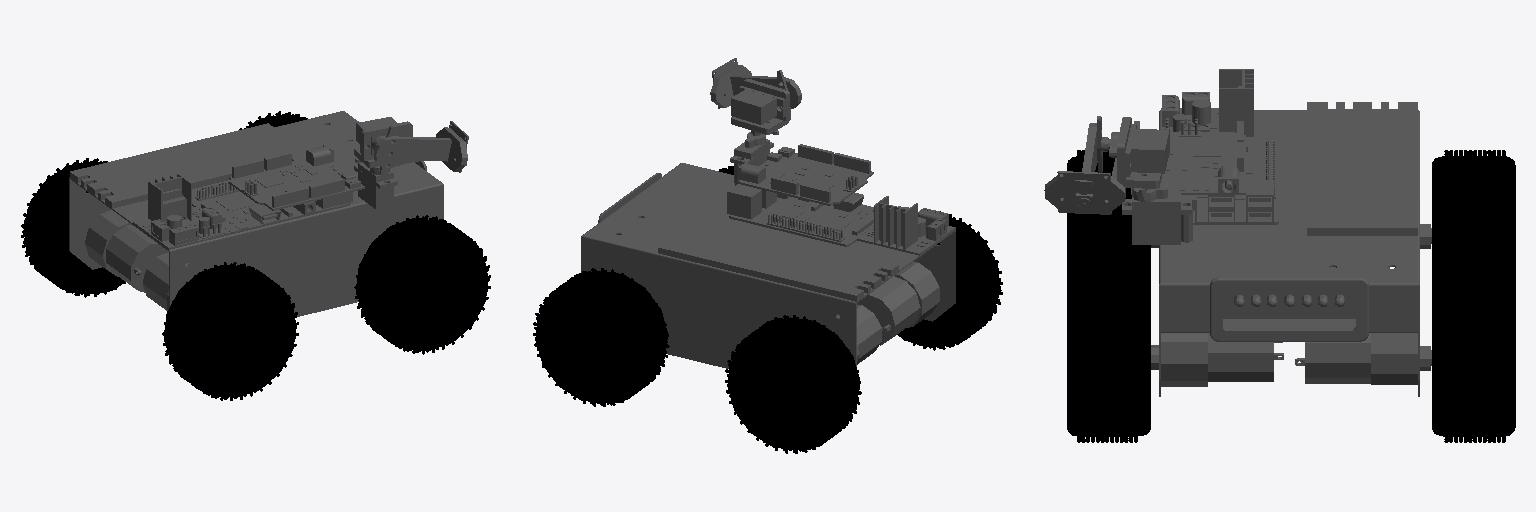
The robot description file, URDF, robot "sam_bot":
<?xml version="1.0"?>
<robot name="sam_bot" xmlns:xacro="http://ros.org/wiki/xacro">



  <link name="base_link">
    <visual>
    <geometry>
    <mesh filename="package://axioma_urdf/meshes/visual/chasiss.stl" scale="1 1 1" />
    </geometry>
  <origin rpy="0 0 0" xyz="0 0 0"/>
  <material name="grey">
    <color rgba="0.4 0.4 0.4 1.0" />
  </material>
    </visual>
  <collision>
  <geometry>
    <mesh filename="package://axioma_urdf/meshes/collision/chasiss.dae" scale="1 1 1" />
  </geometry>
  <origin rpy="0 0 0" xyz="0 0 0"/>
  </collision>
  <inertial>
  <mass value="100"/>
  <inertia ixx="1.0" ixy="0.0" ixz="0.0" iyy="1.0" iyz="0.0" izz="1.0"/>
  </inertial>
    </link>

    <link name="wheel_1">
    <visual>
    <geometry>
    <mesh filename="package://axioma_urdf/meshes/visual/wheel.stl" scale="1 1 1" />
    </geometry>
  <origin rpy="0 0 0" xyz="0 0 0"/>
    <material name="black">
  <color rgba="0 0 0 1"/>
  </material>
  </visual>
  <collision>
  <geometry>
    <mesh filename="package://axioma_urdf/meshes/collision/wheel.dae" scale="1 1 1" />
  </geometry>
  <origin rpy="0 0 0" xyz="0 0 0"/>
  </collision>
  <inertial>
  <mass value="10"/>
  <inertia ixx="1.0" ixy="0.0" ixz="0.0" iyy="1.0" iyz="0.0" izz="1.0"/>
  </inertial>
    </link>

    <link name="wheel_2">
    <visual>
    <geometry>
    <mesh filename="package://axioma_urdf/meshes/visual/wheel.stl" scale="1 1 1" />
    </geometry>
  <origin rpy="0 0 0" xyz="0 0 0"/>
    <material name="black"/>
    </visual>
  <collision>
  <geometry>
    <mesh filename="package://axioma_urdf/meshes/collision/wheel.dae" scale="1 1 1" />
  </geometry>
  <origin rpy="0 0 0" xyz="0 0 0"/>
  </collision>
  <inertial>
  <mass value="10"/>
  <inertia ixx="1.0" ixy="0.0" ixz="0.0" iyy="1.0" iyz="0.0" izz="1.0"/>
  </inertial>
    </link>

    <link name="wheel_3">
    <visual>
    <geometry>
    <mesh filename="package://axioma_urdf/meshes/visual/wheel.stl" scale="1 1 1" />
    </geometry>
  <origin rpy="0 0 0" xyz="0 0 0"/>
    <material name="black"/>
    </visual>
  <collision>
  <geometry>
    <mesh filename="package://axioma_urdf/meshes/collision/wheel.dae" scale="1 1 1" />
  </geometry>
  <origin rpy="0 0 0" xyz="0 0 0"/>
  </collision>
  <inertial>
  <mass value="10"/>
  <inertia ixx="1.0" ixy="0.0" ixz="0.0" iyy="1.0" iyz="0.0" izz="1.0"/>
  </inertial>
    </link>


    <link name="wheel_4">
    <visual>
    <geometry>
    <mesh filename="package://axioma_urdf/meshes/visual/wheel.stl" scale="1 1 1" />
    </geometry>
  <origin rpy="0 0 0" xyz="0 0 0"/>
    <material name="black"/>
    </visual>
  <collision>
  <geometry>
    <mesh filename="package://axioma_urdf/meshes/collision/wheel.dae" scale="1 1 1" />
  </geometry>
  <origin rpy="0 0 0" xyz="0 0 0"/>
  </collision>
  <inertial>
  <mass value="10"/>
  <inertia ixx="1.0" ixy="0.0" ixz="0.0" iyy="1.0" iyz="0.0" izz="1.0"/>
  </inertial>
    </link>



    <joint name="base_to_wheel1" type="continuous">
    <parent link="base_link"/>
    <origin rpy="3.141516 0 0" xyz="0.06442 0.07385 0.04068"/>
    <child link="wheel_1"/>
    <axis xyz="0 1 0" />
    </joint>

    <joint name="base_to_wheel2" type="continuous">
    <parent link="base_link"/>
    <origin rpy="3.141516 0 0" xyz="-0.071224 0.07385 0.04068"/>
    <child link="wheel_2"/>
    <axis xyz="0 1 0" />
    </joint>

    <joint name="base_to_wheel3" type="continuous">
    <parent link="base_link"/>
    <origin rpy="0 0 0" xyz="-0.071224 -0.0625 0.04068"/>
    <child link="wheel_3"/>
    <axis xyz="0 -1 0" />
    </joint>

    <joint name="base_to_wheel4" type="continuous">
    <parent link="base_link"/>
    <origin rpy="0 0 0" xyz="0.064423 -0.0625 0.04068"/>
    <child link="wheel_4"/>
    <axis xyz="0 -1 0" />
    </joint>


    <gazebo reference="camera_link">
    <sensor name="depth_camera" type="depth">
      <visualize>true</visualize>
      <update_rate>30.0</update_rate>
      <camera name="camera">
        <horizontal_fov>1.047198</horizontal_fov>
        <image>
          <width>640</width>
          <height>480</height>
          <format>R8G8B8</format>
        </image>
        <clip>
          <near>0.05</near>
          <far>3</far>
        </clip>
      </camera>
      <plugin name="depth_camera_controller" filename="libgazebo_ros_camera.so">
        <baseline>0.2</baseline>
        <alwaysOn>true</alwaysOn>
        <updateRate>0.0</updateRate>
        <frame_name>camera_depth_frame</frame_name>
        <pointCloudCutoff>0.5</pointCloudCutoff>
        <pointCloudCutoffMax>3.0</pointCloudCutoffMax>
        <distortionK1>0</distortionK1>
        <distortionK2>0</distortionK2>
        <distortionK3>0</distortionK3>
        <distortionT1>0</distortionT1>
        <distortionT2>0</distortionT2>
        <CxPrime>0</CxPrime>
        <Cx>0</Cx>
        <Cy>0</Cy>
        <focalLength>0</focalLength>
        <hackBaseline>0</hackBaseline>
      </plugin>
    </sensor>
  </gazebo>

</robot>

--- Facts derived from the render (not from the file) ---
Views: 3 orthographic renders of the robot side by side, from view 1: azimuth 30°, elevation 25°; view 2: azimuth 150°, elevation 25°; view 3: azimuth 270°, elevation 25°.
Model sam_bot with 5 links and 4 joints (4 continuous), rooted at base_link, posed every joint at zero.
Links seen in each view (by area): view 1: base_link, wheel_4, wheel_3, wheel_2; view 2: base_link, wheel_2, wheel_1, wheel_3; view 3: base_link, wheel_4, wheel_1, wheel_2, wheel_3.
Link boxes in pixels (box(x1,y1,x2,y2)): base_link: box(69, 111, 468, 316); wheel_4: box(354, 215, 490, 354); wheel_3: box(162, 262, 298, 400); wheel_2: box(21, 158, 125, 297); base_link: box(581, 58, 955, 368); wheel_2: box(725, 315, 861, 453); wheel_1: box(533, 268, 669, 406); wheel_3: box(897, 211, 1002, 350); base_link: box(1044, 69, 1431, 396); wheel_4: box(1067, 271, 1150, 442); wheel_1: box(1432, 271, 1515, 442); wheel_2: box(1432, 150, 1515, 286); wheel_3: box(1067, 150, 1150, 284).
Bounding box of the posed robot: 0.2166 × 0.222 × 0.1548 m (x, y, z).
5 mesh visuals loaded from 2 distinct referenced files (2 binary STL).
